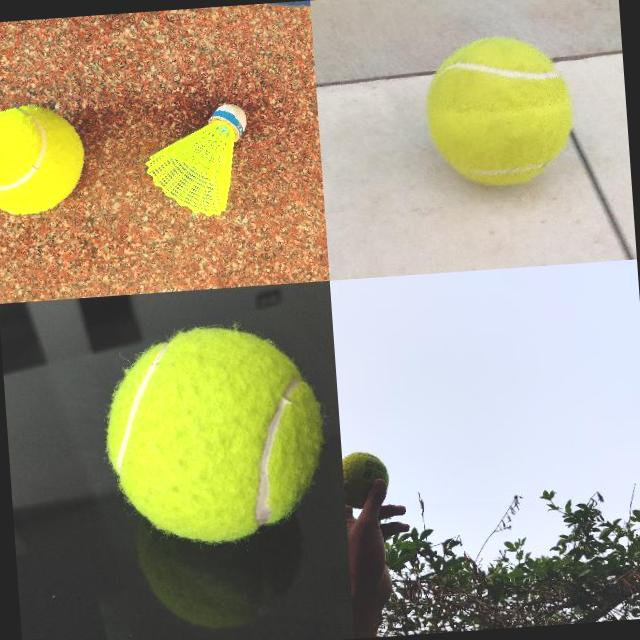tennis-ball: (95, 316, 331, 550), (421, 31, 578, 190), (0, 100, 88, 216), (341, 448, 391, 510)
